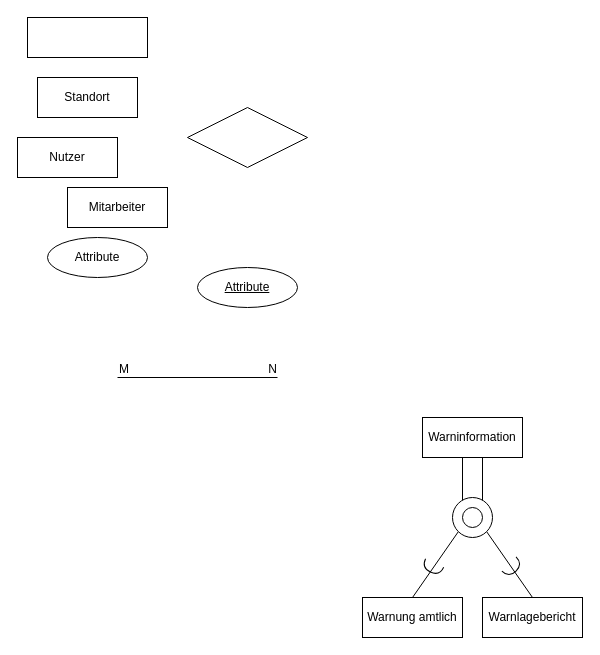
The diagram is 600 pixels wide and 655 high, and some of its shapes have lost their labels. The shapes that lost their labels are listed below. From the top down, each one's centre as x and y in pixels, then its label:
At pixel 87 37: "Wettervorhersage".
At pixel 247 137: "Relationship".
